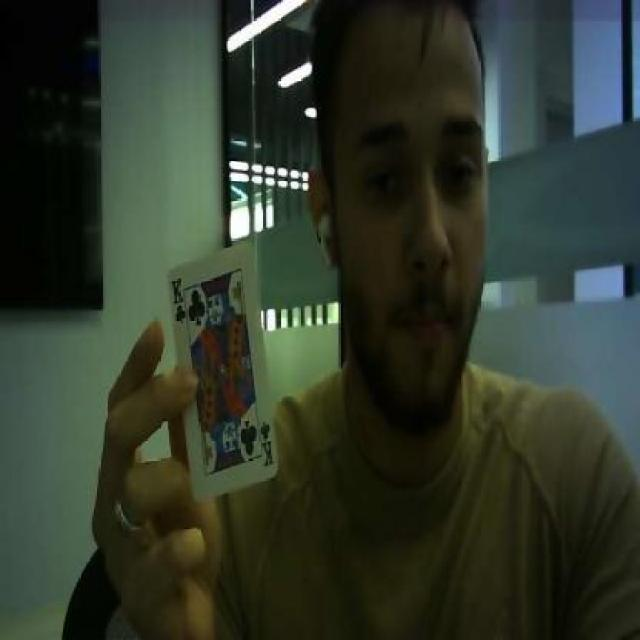KC: (258, 417, 274, 469), (171, 273, 184, 324)
